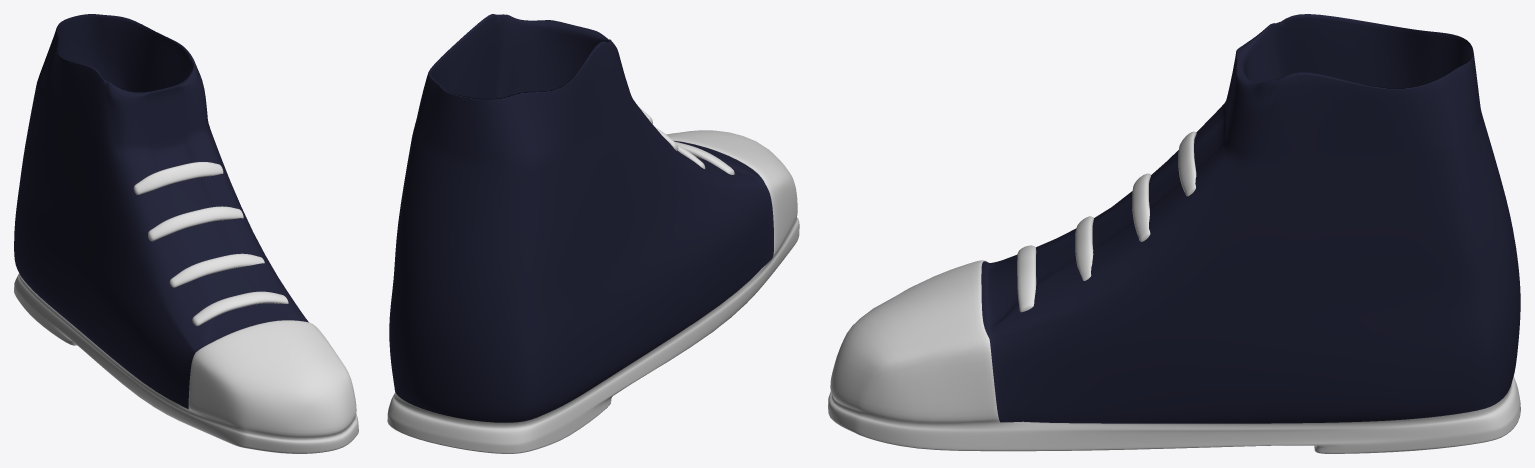
File: RightShoeFinal.fbx
3 views of the same model, side by side, from view 1: azimuth 30°, elevation 25°; view 2: azimuth 150°, elevation 25°; view 3: azimuth 270°, elevation 25° (orthographic). The views are drawn at different scales.
Parts seen in each view (by area): view 1: rightShoe, lace4, lace3, lace2, lace; view 2: rightShoe, lace; view 3: rightShoe, lace, lace3, lace2, lace4.
Part boxes in pixels (x1,y1,x2,y2): rightShoe: [14, 14, 358, 453]; lace4: [133, 162, 223, 194]; lace3: [148, 206, 243, 241]; lace2: [169, 253, 264, 287]; lace: [192, 291, 288, 326]; rightShoe: [387, 14, 799, 453]; lace: [675, 141, 734, 174]; rightShoe: [828, 14, 1520, 453]; lace: [1017, 245, 1036, 312]; lace3: [1132, 173, 1151, 241]; lace2: [1075, 216, 1093, 280]; lace4: [1178, 131, 1196, 196].
Bounding box in the file's own units: 1.25 × 2.36 × 3.98.
